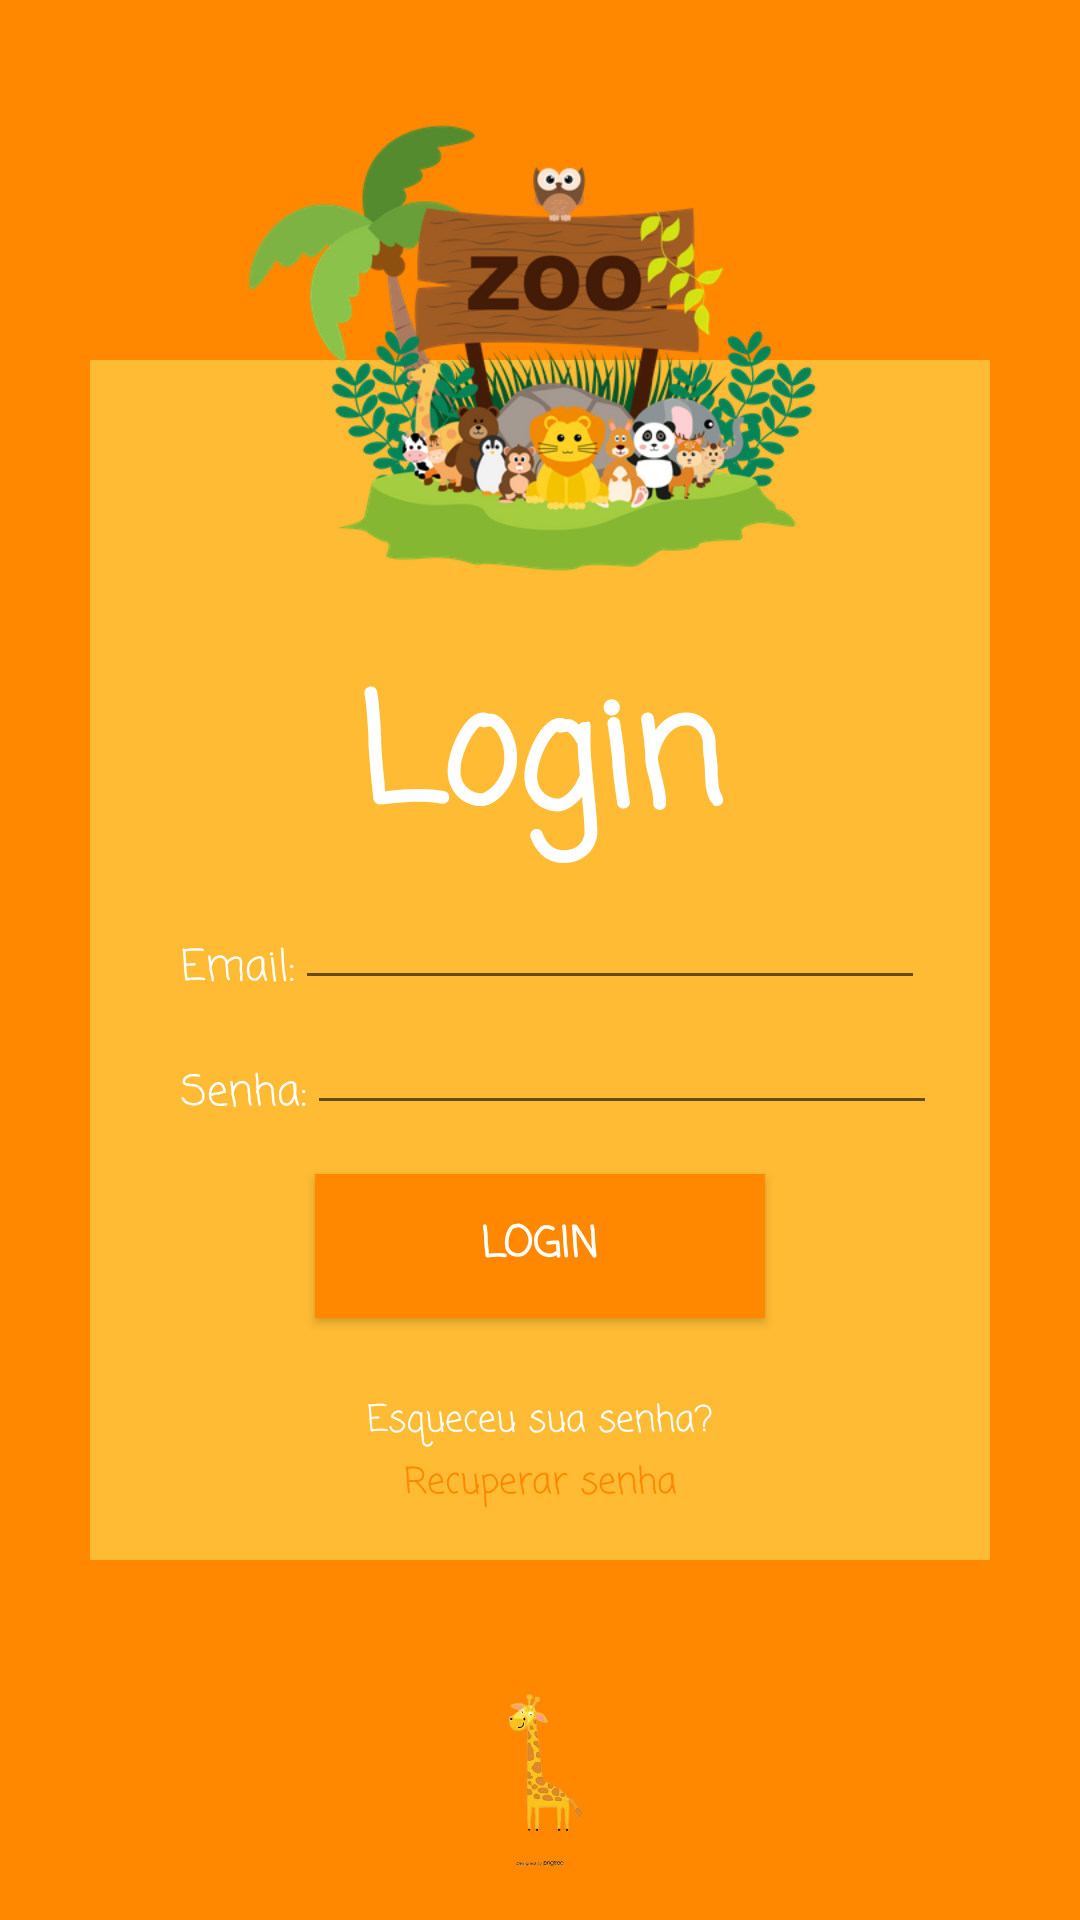

Point at icon controls on the screen. Image size 1080*1920, points as (x=x, y=y).
girafa: (x=545, y=1780)
